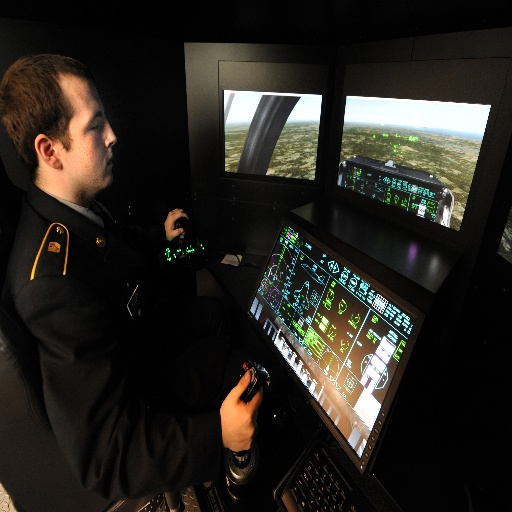hand: (221, 376, 269, 450), (163, 207, 188, 244)
